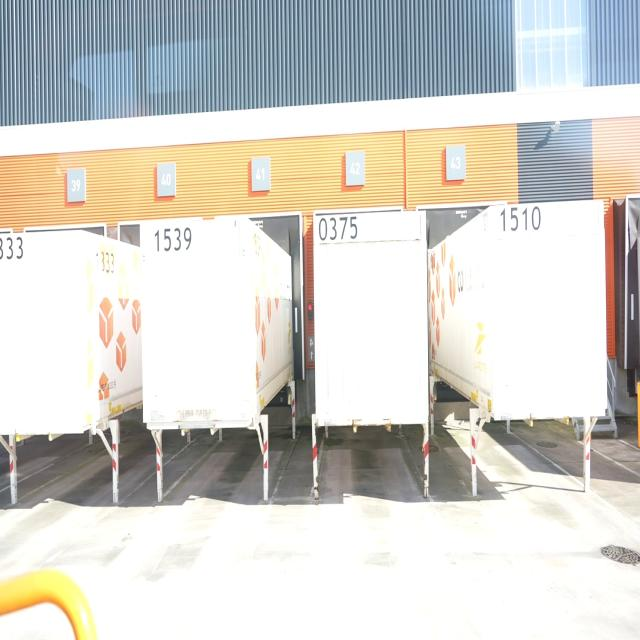Code: (498, 204, 544, 240), (317, 215, 364, 248), (152, 224, 196, 255)
